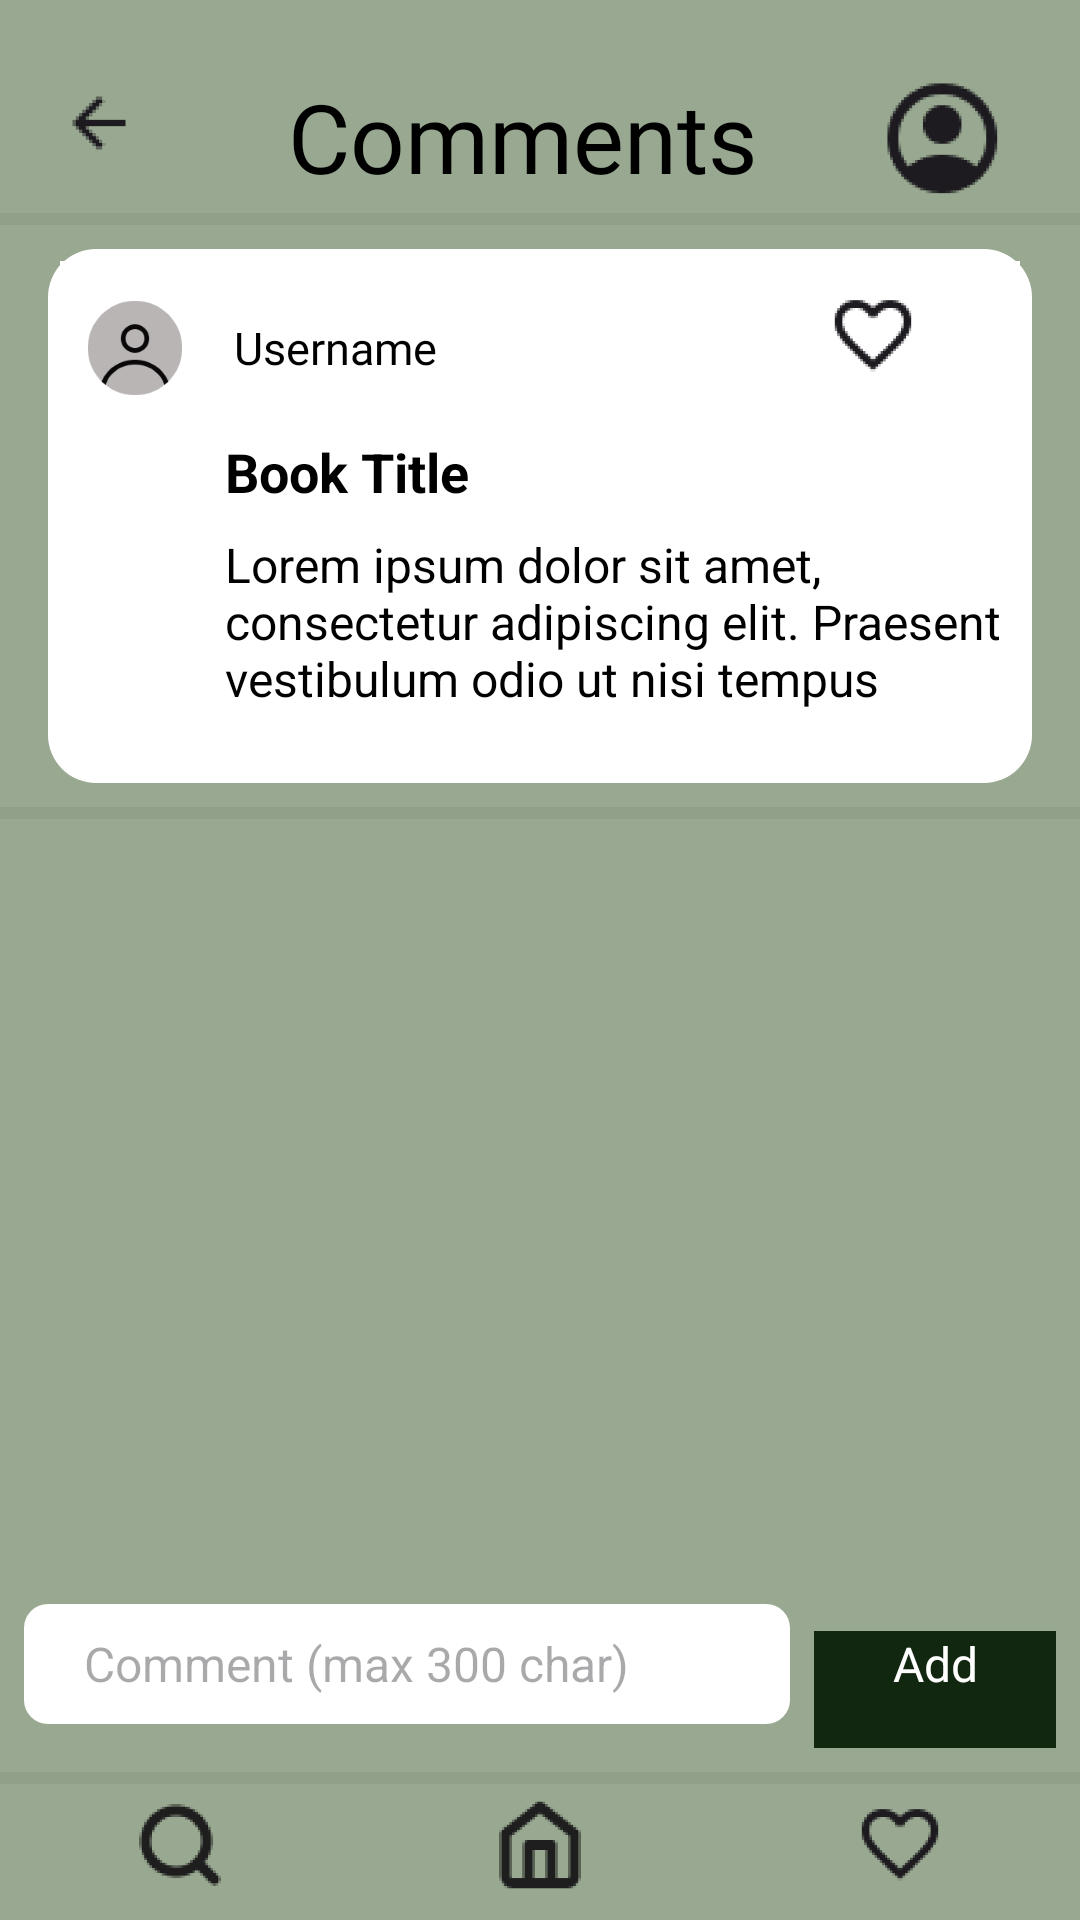

Icon click points for this 1080x1920 phone screenshot, format [x,y]:
arrow back: [99,123]
fav: [873,335], [900,1844]
home: [540,1845]
search: [180,1845]
